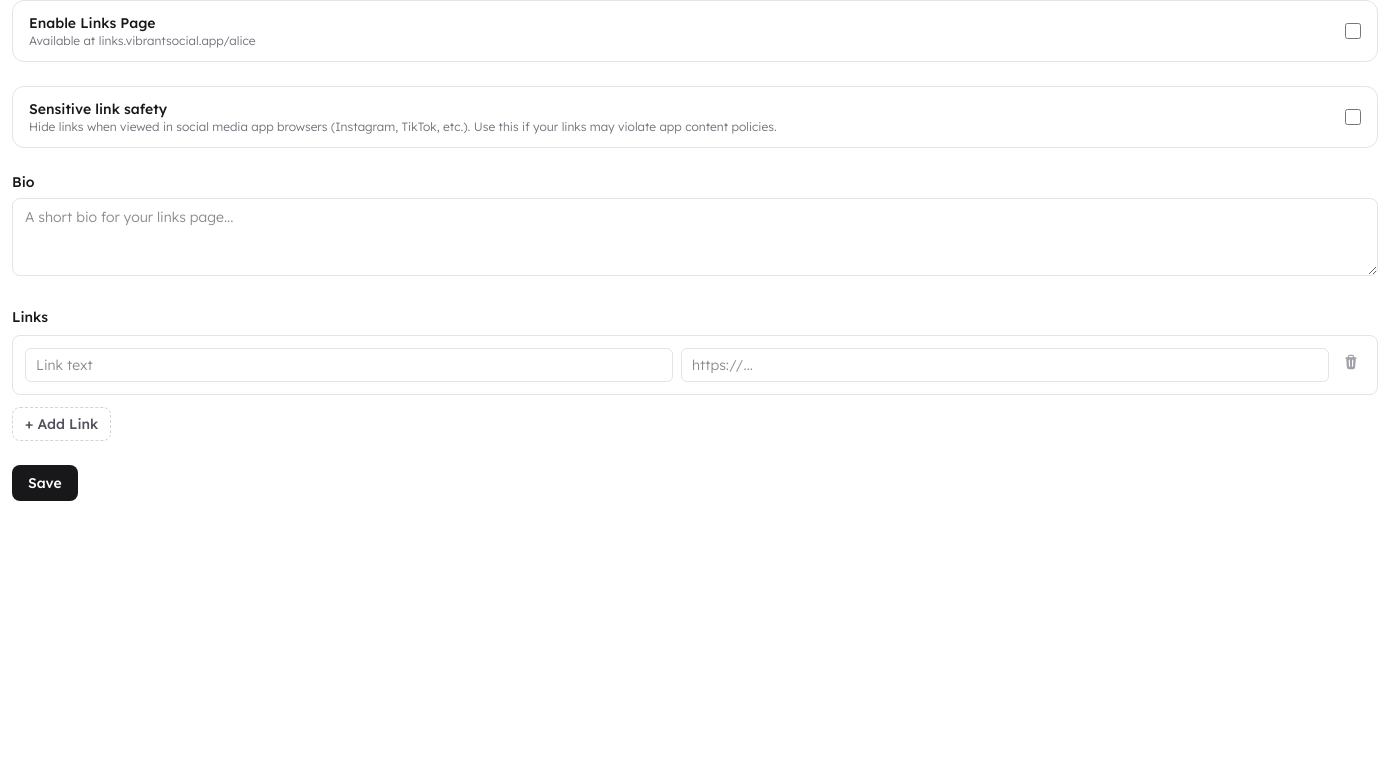
LinksForm › adds a new link when Add Link is clicked
The width and height of the screenshot is (1390, 768).
Expected: the number of elements with test id "link-entry" is 1, [12, 335, 1378, 395]
Step 1. Click the button with test id "add-link-btn" → [62, 424], box [12, 407, 111, 441]
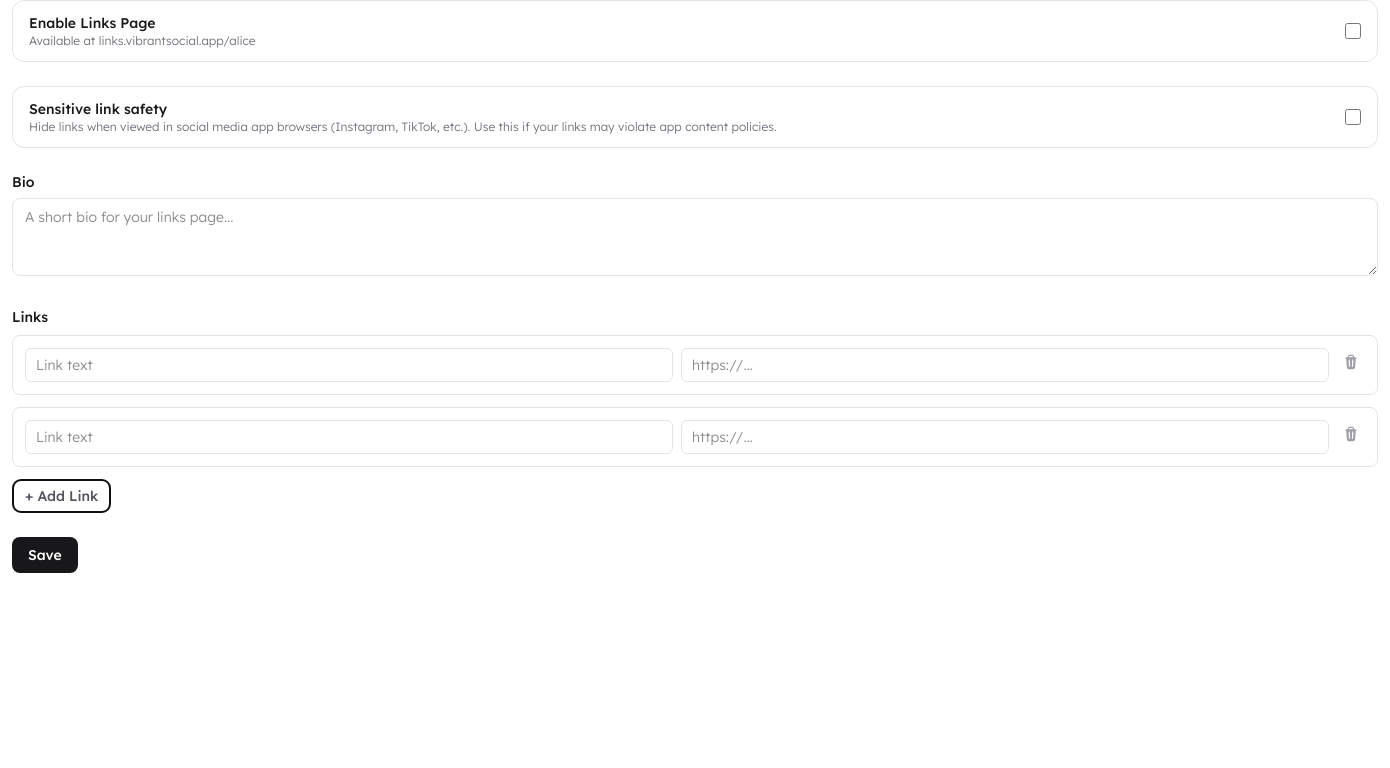
Expected: the number of elements with test id "link-entry" is 2, [12, 335, 1378, 395]; [12, 407, 1378, 467]
